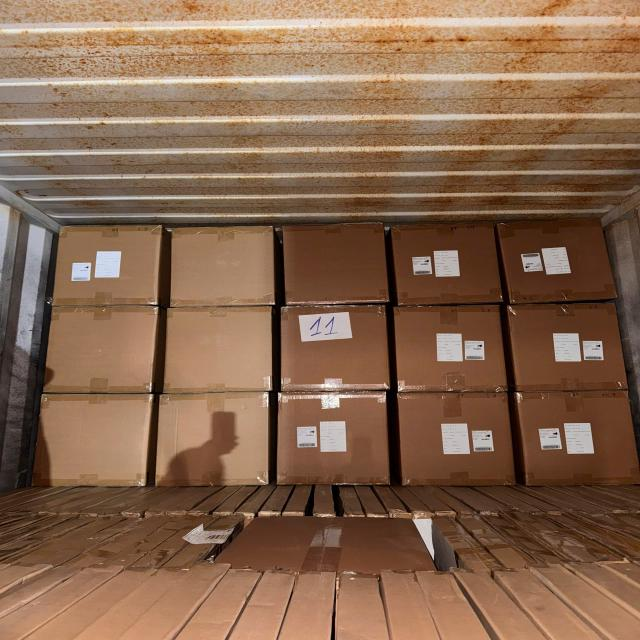Carton: (517, 391, 639, 486), (396, 391, 512, 488), (35, 393, 152, 489), (278, 389, 392, 487), (157, 391, 271, 489), (509, 304, 628, 394), (42, 306, 156, 396), (392, 307, 504, 396), (502, 221, 618, 305), (280, 307, 392, 393), (51, 226, 162, 311), (165, 308, 274, 394), (393, 224, 500, 310), (169, 227, 276, 312), (281, 224, 388, 308)
